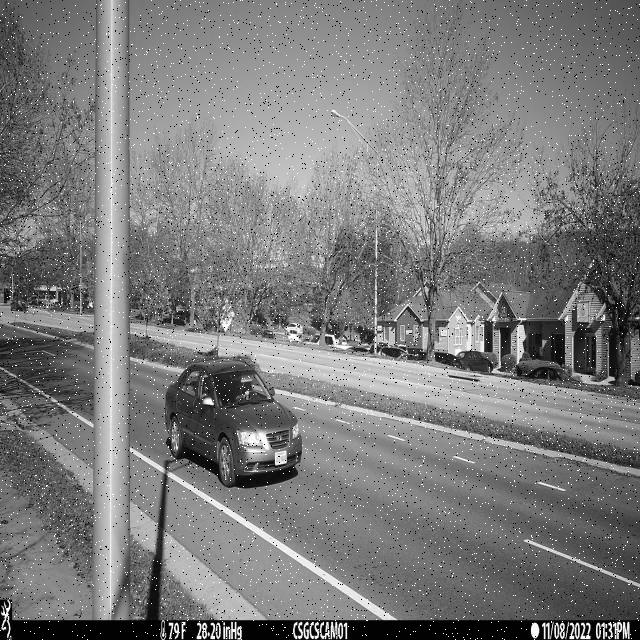Sedan: (163, 359, 302, 488)
